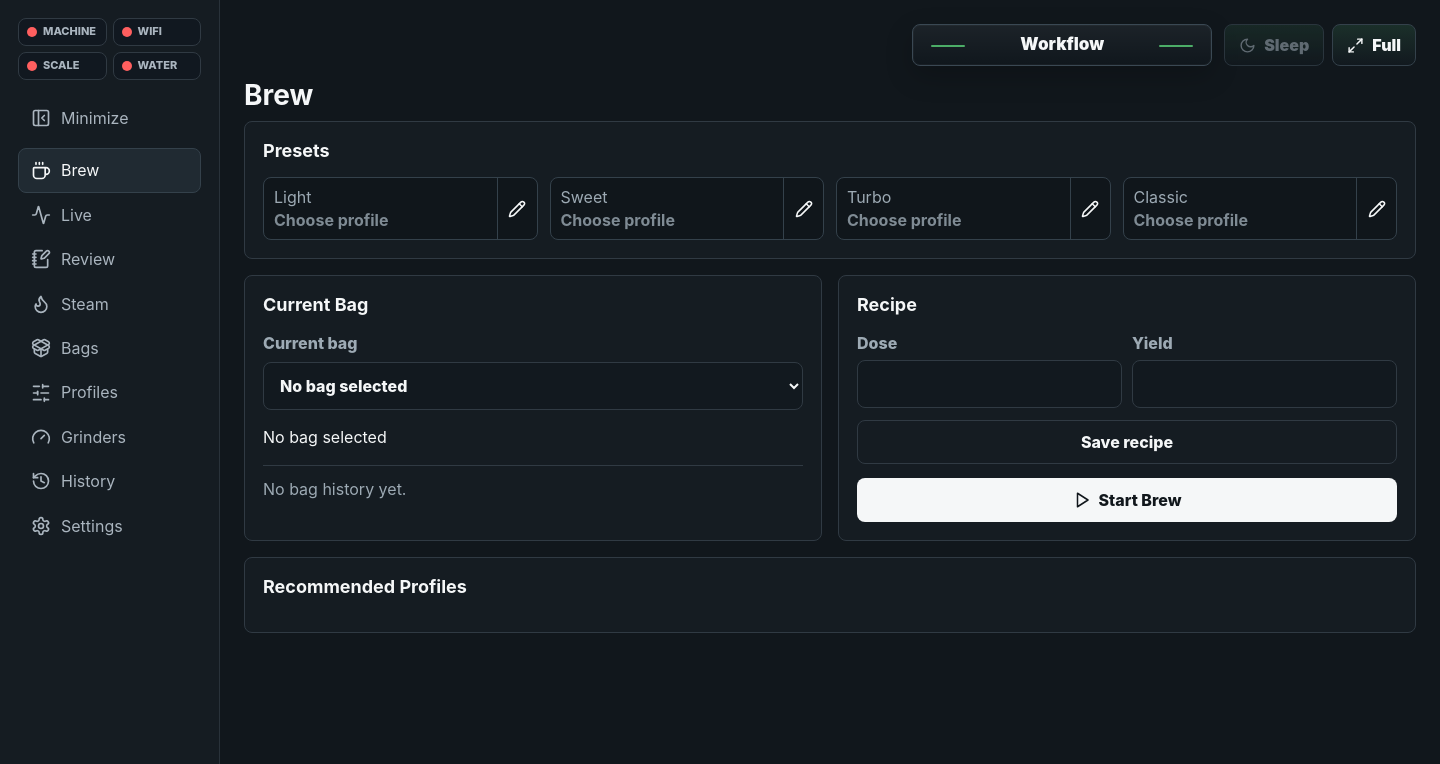
Scenario: ReviewPage › shows an error when no native R2 sensor is detected
Click the button "Review" at (110, 259), box [18, 237, 201, 282]
(page scrolled)
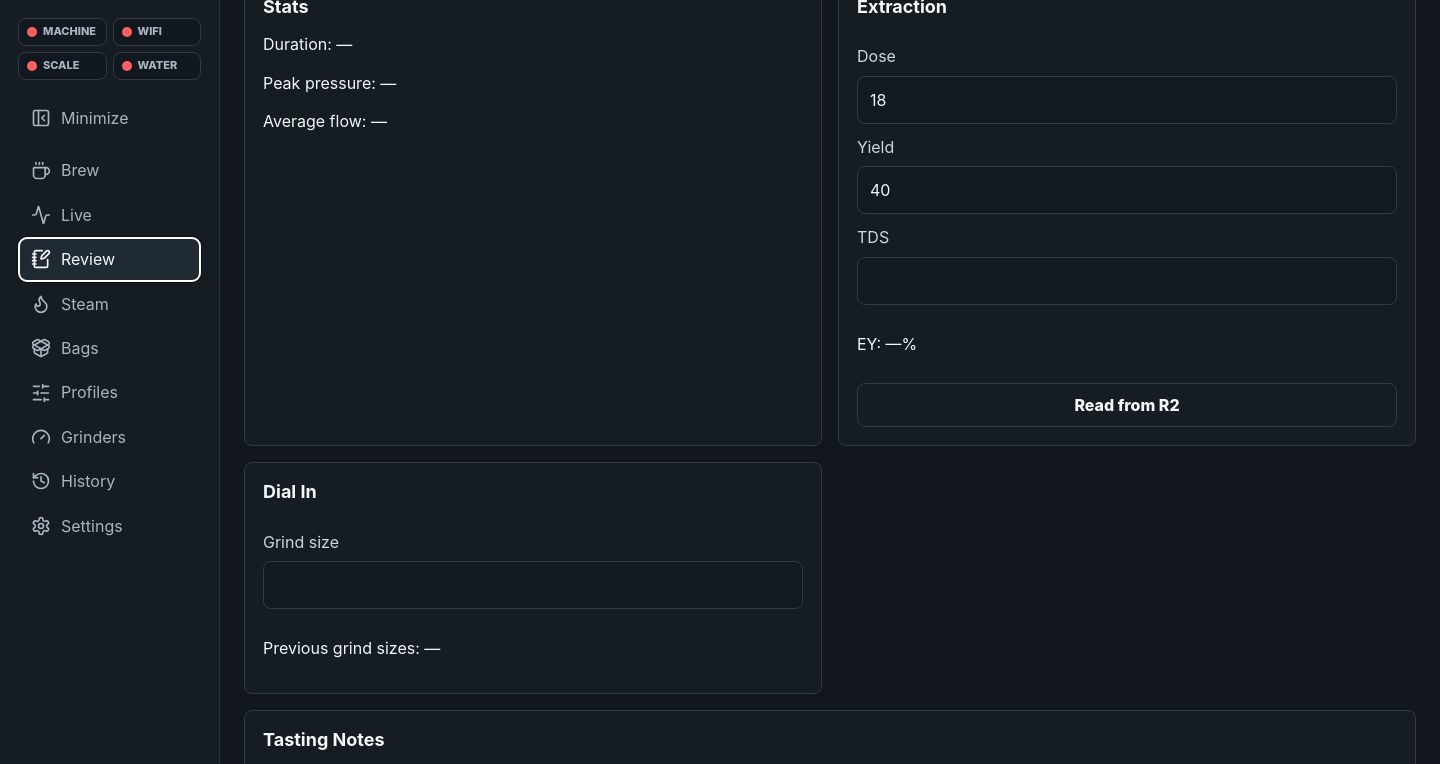
Click the button "Read from R2" at (1127, 405), box [857, 383, 1397, 427]
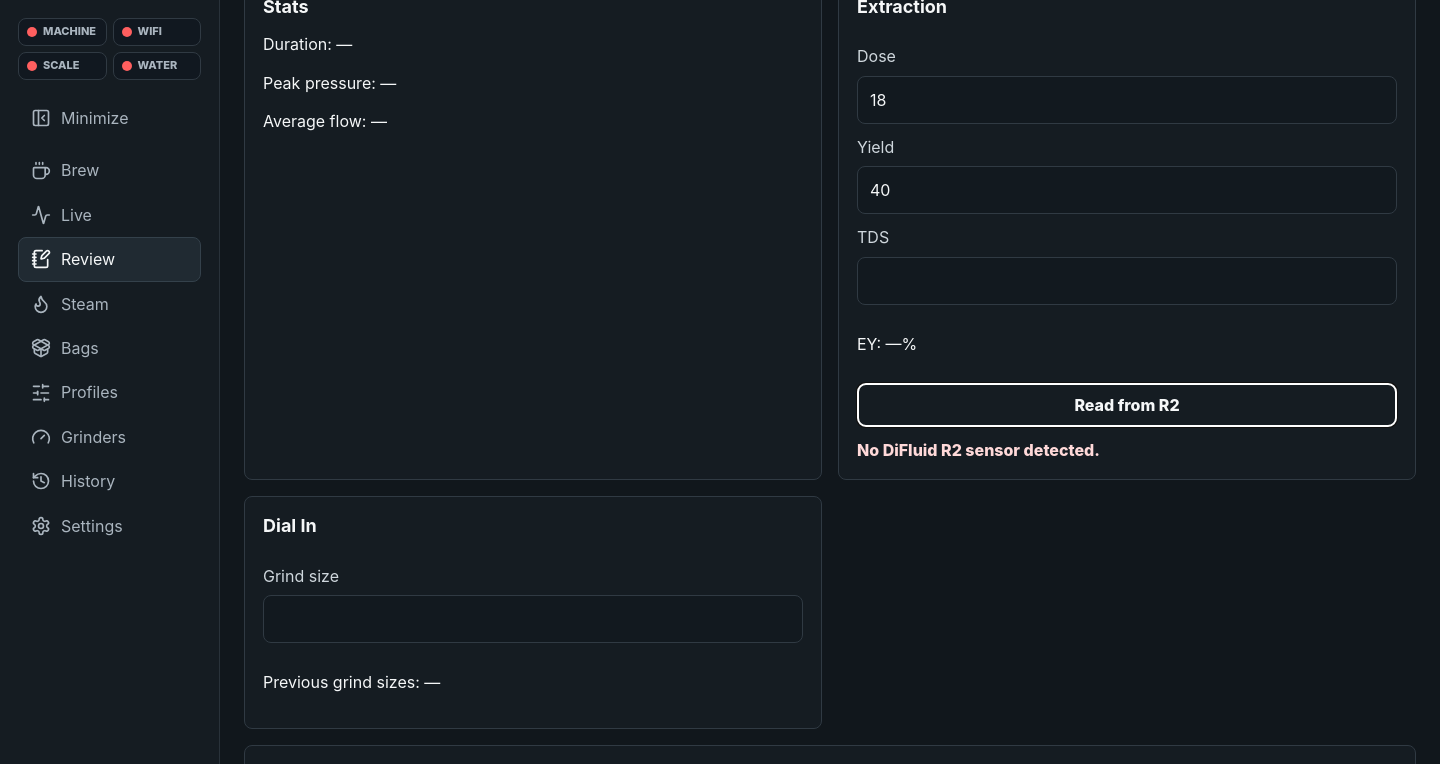
Expected: the message reads "No DiFluid R2 sensor detected.", [857, 440, 1100, 460]
